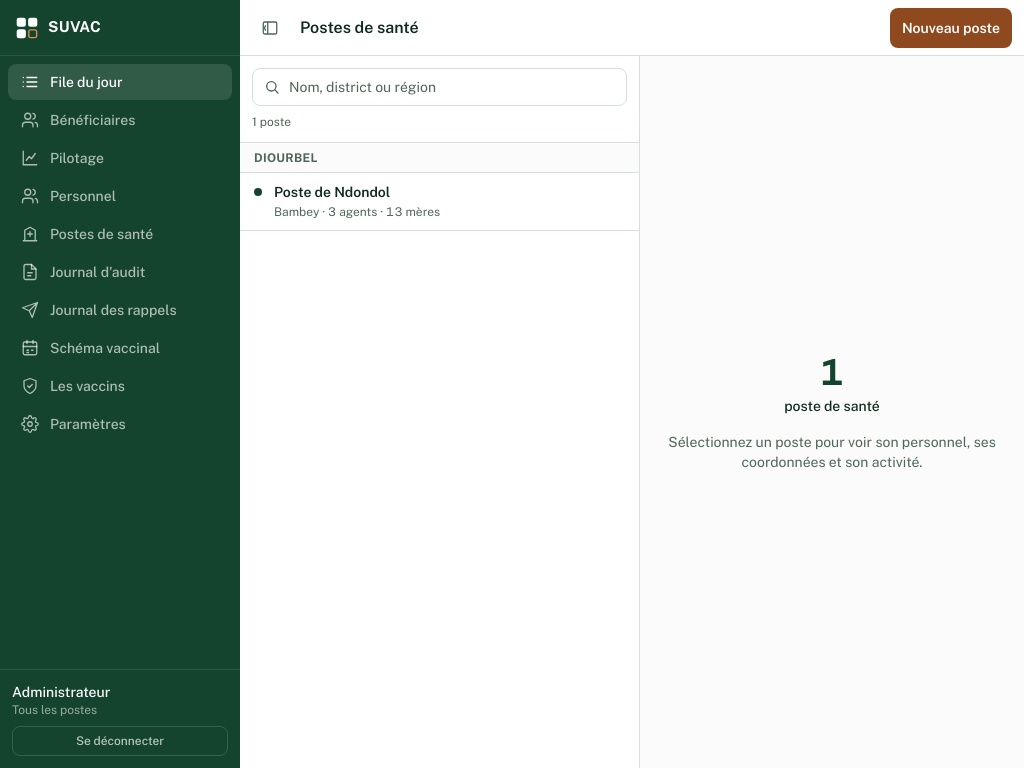
Test: Postes › explique le refus de fermer un poste occupé
What coordinates should you click on to do the following:
click the text "Poste de Ndondol"
I would click on:
 (332, 192)
Its box is 274,182 -> 390,202.
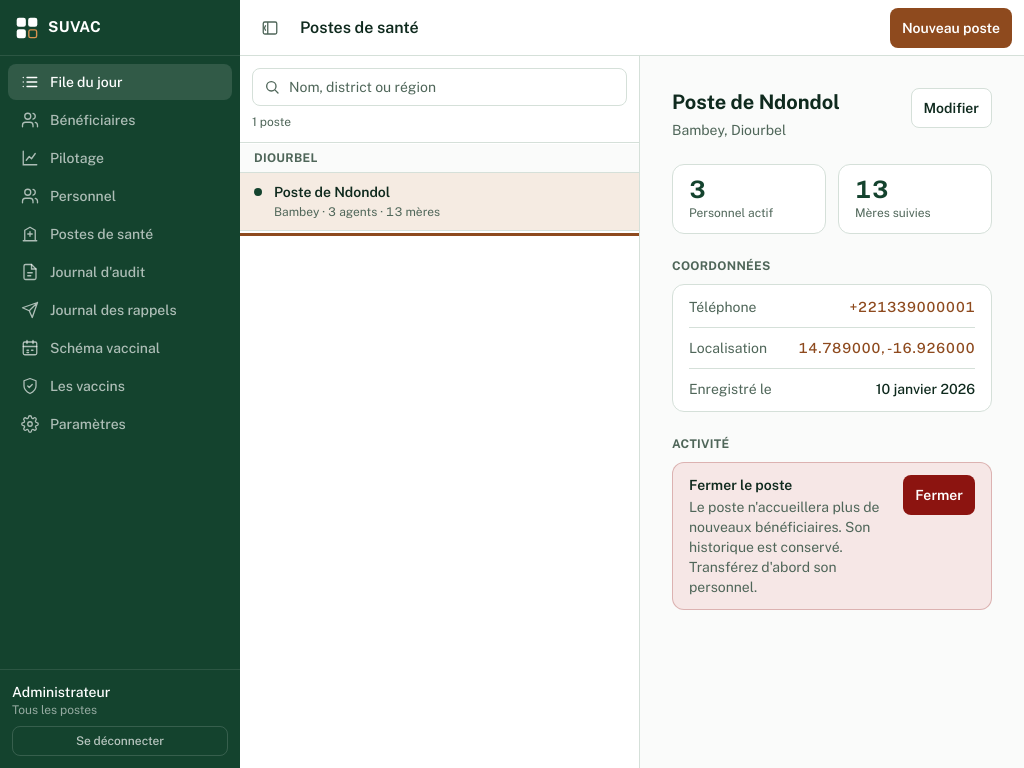
What coordinates should you click on to do the following:
click the button "Fermer"
I would click on:
 (939, 495)
Its box is 903,475 -> 975,515.
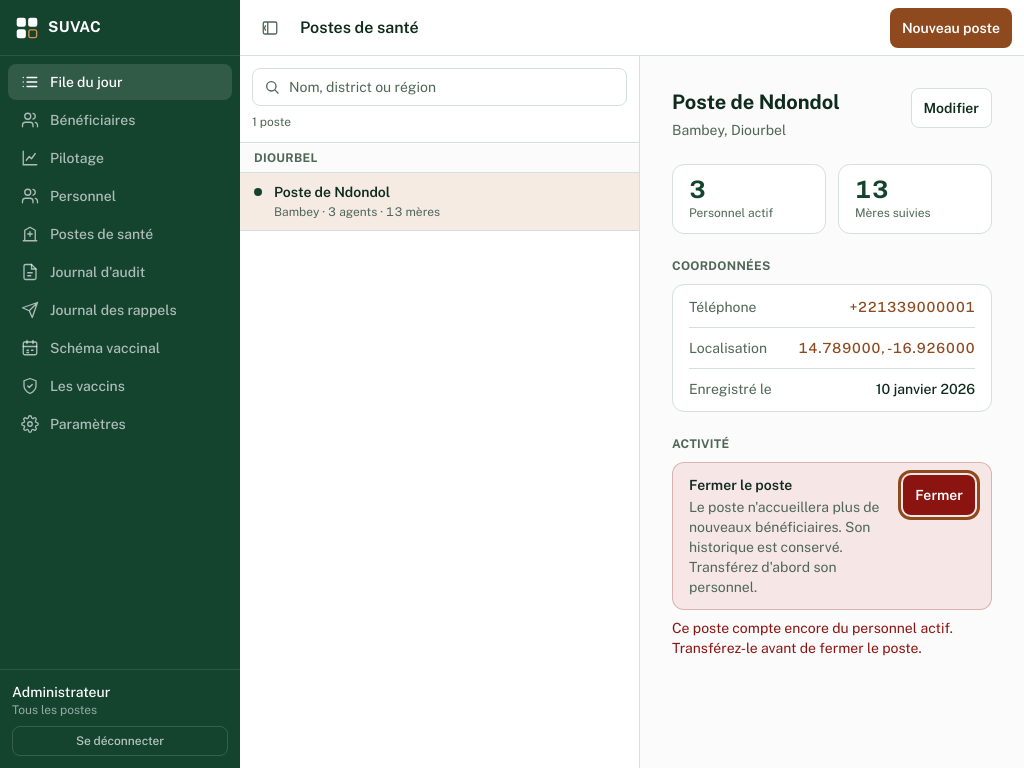
Expected: the text "compte encore du personnel actif" is shown, 672,620 -> 953,656
